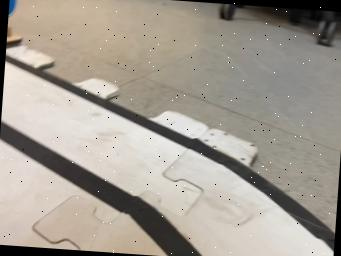forward: (5, 26, 21, 46), (5, 26, 21, 46), (5, 26, 21, 46), (5, 26, 21, 46), (5, 26, 21, 46), (5, 26, 21, 46), (7, 0, 16, 24), (7, 0, 16, 24), (7, 0, 16, 24), (7, 0, 16, 24), (7, 0, 16, 24), (7, 0, 16, 24)
street: (0, 53, 334, 256), (0, 53, 334, 256), (0, 53, 334, 256), (0, 53, 334, 256), (0, 53, 334, 256), (0, 53, 334, 256)
